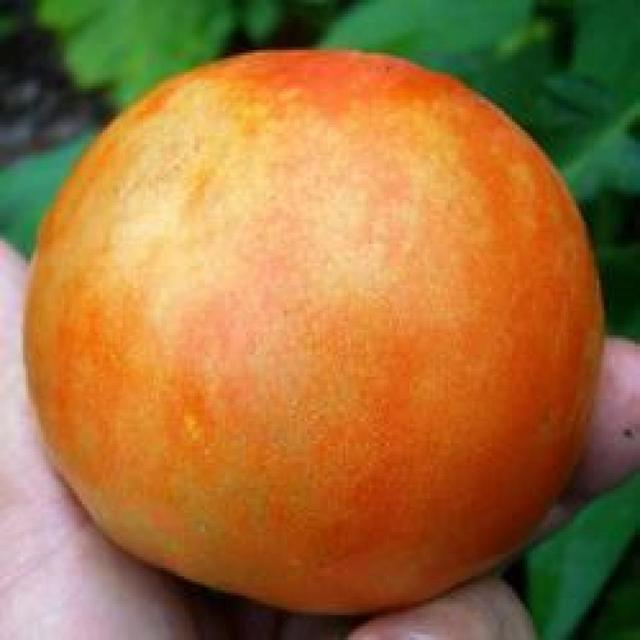Spotted wilt Virus Fruit: (16, 33, 401, 409)
